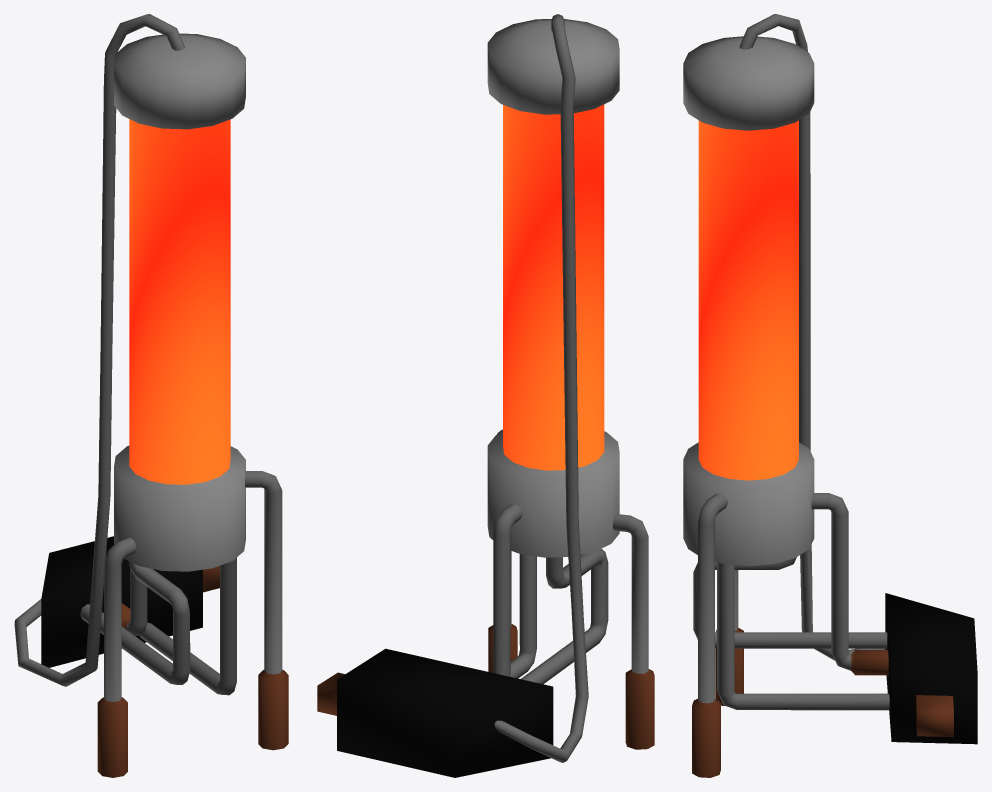
The model's file is Aquecedor.fbx.
The picture shows the model from 3 angles, left to right: view 1: azimuth 30°, elevation 25°; view 2: azimuth 150°, elevation 25°; view 3: azimuth 270°, elevation 25°; orthographic projection.
Parts seen in each view (by area): view 1: Aquecedor; view 2: Aquecedor; view 3: Aquecedor.
Boxes of the visible parts, x1,y1,x2,y2 form: Aquecedor: [14, 14, 288, 777]; Aquecedor: [317, 14, 654, 777]; Aquecedor: [683, 14, 977, 777].
Size of the model in its own units: 35.94 by 113 by 42.06.
